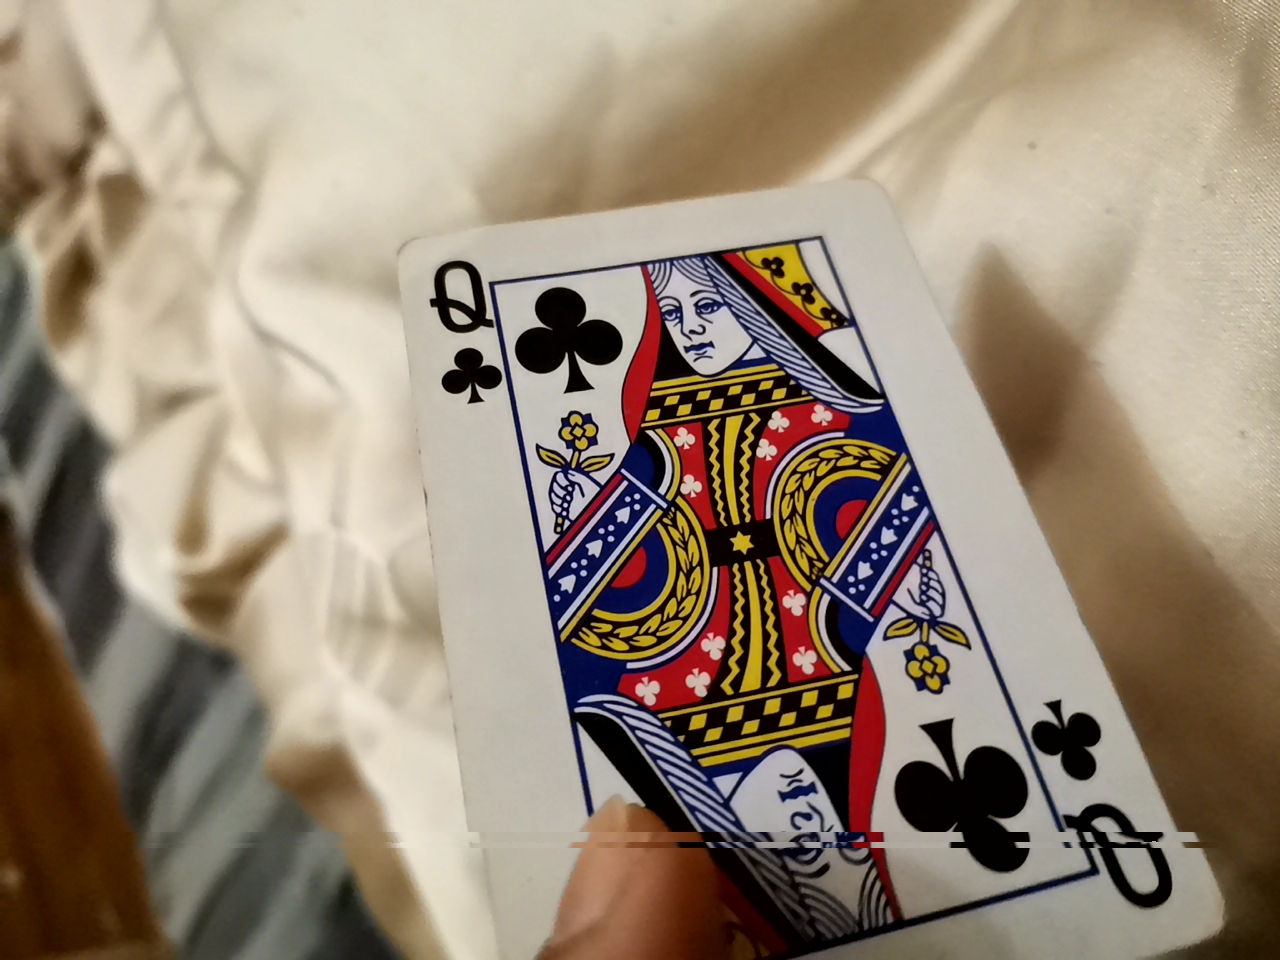mh q: (369, 158, 1154, 958)
